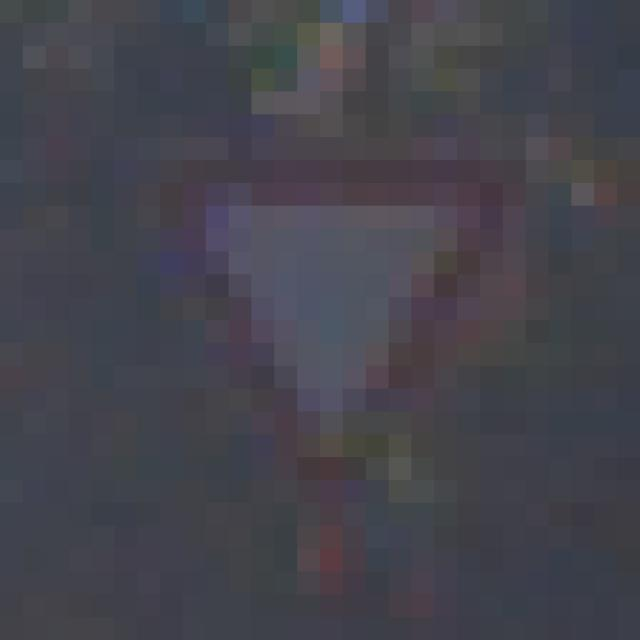Give Way: (115, 115, 527, 527)
